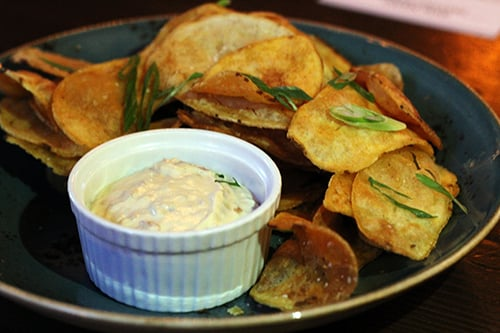soup: (51, 4, 296, 155), (176, 35, 348, 158), (350, 145, 462, 262)
sushi: (67, 128, 282, 314)
